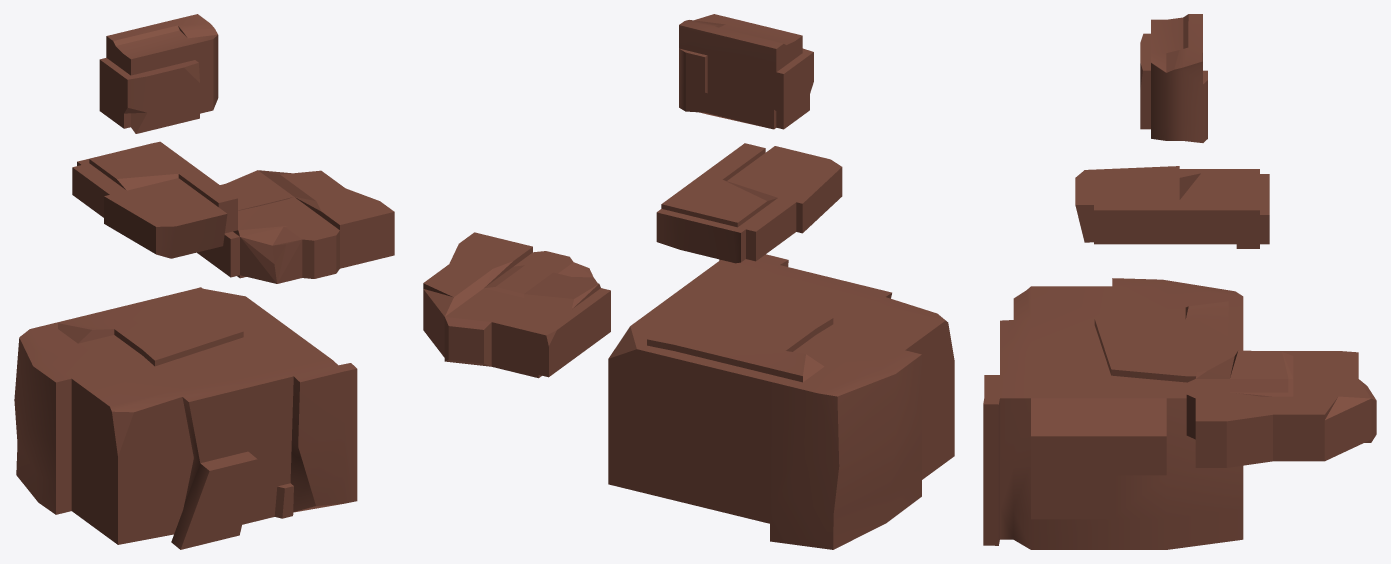
3 views of the same model, side by side, from view 1: azimuth 30°, elevation 25°; view 2: azimuth 150°, elevation 25°; view 3: azimuth 270°, elevation 25° (orthographic). The views are drawn at different scales.
Parts seen in each view (by area): view 1: pCube4, pasted__pCube9, pCube7, pCube8, pCube5; view 2: pCube4, pasted__pCube9, pCube7, pCube8, pCube5; view 3: pCube4, pasted__pCube9, pCube7, pCube5, pCube8.
Boxes of the visible parts, <box> form: pCube4: <box>14,288,357,549</box>; pasted__pCube9: <box>197,170,394,283</box>; pCube7: <box>72,141,237,258</box>; pCube8: <box>99,14,218,133</box>; pCube5: <box>58,287,243,366</box>; pCube4: <box>608,254,954,549</box>; pasted__pCube9: <box>423,232,610,378</box>; pCube7: <box>656,143,842,263</box>; pCube8: <box>679,14,813,129</box>; pCube5: <box>647,298,833,382</box>; pCube4: <box>983,278,1243,549</box>; pasted__pCube9: <box>1186,350,1376,467</box>; pCube7: <box>1075,166,1269,248</box>; pCube5: <box>1094,301,1228,382</box>; pCube8: <box>1140,14,1207,142</box>.
Bounding box in the file's own units: 1386 × 1549 × 1172.
